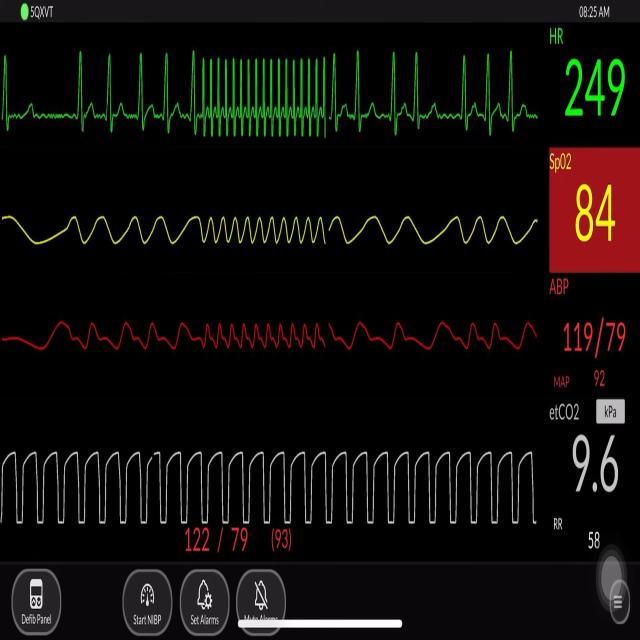danger: (184, 36, 334, 155)
